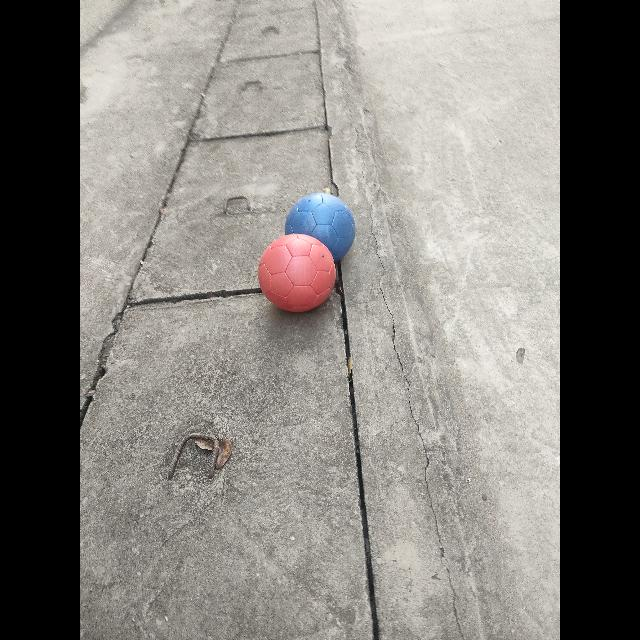B: (285, 193, 355, 261)
R: (258, 234, 336, 312)
